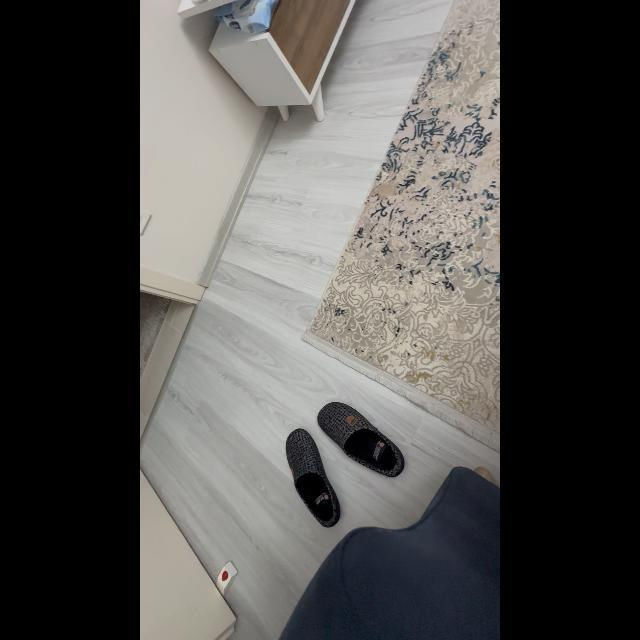slipper: (313, 398, 413, 484), (278, 419, 348, 538)
